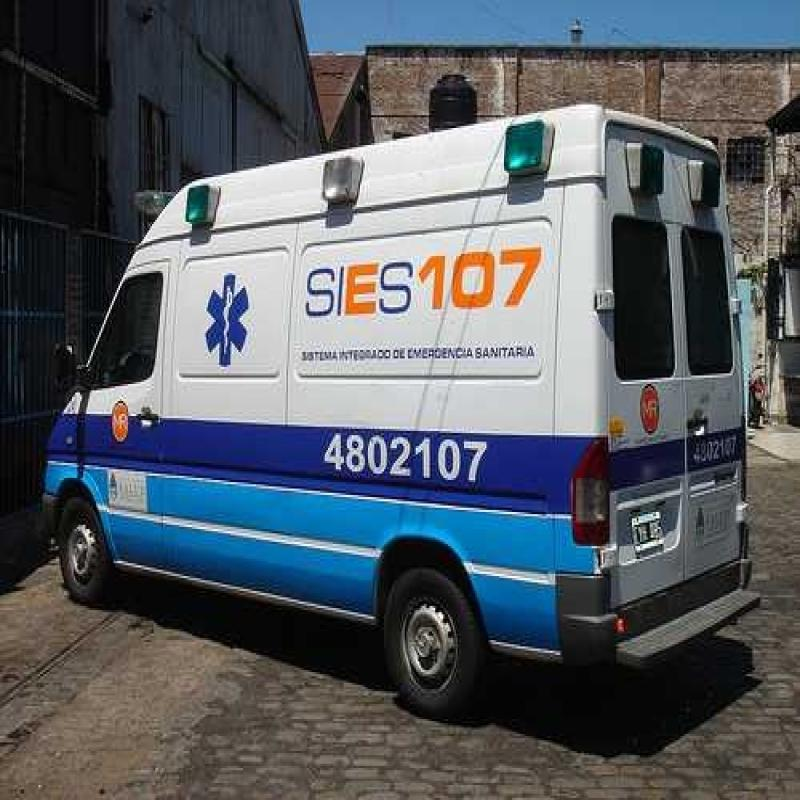ambulance: (26, 57, 800, 783)
